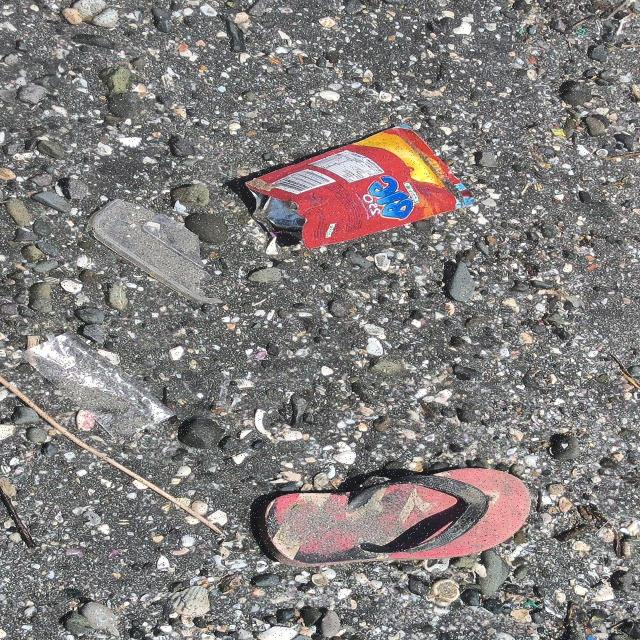plastic_waste: (245, 125, 480, 252)
rubber_waste: (254, 467, 534, 569)
